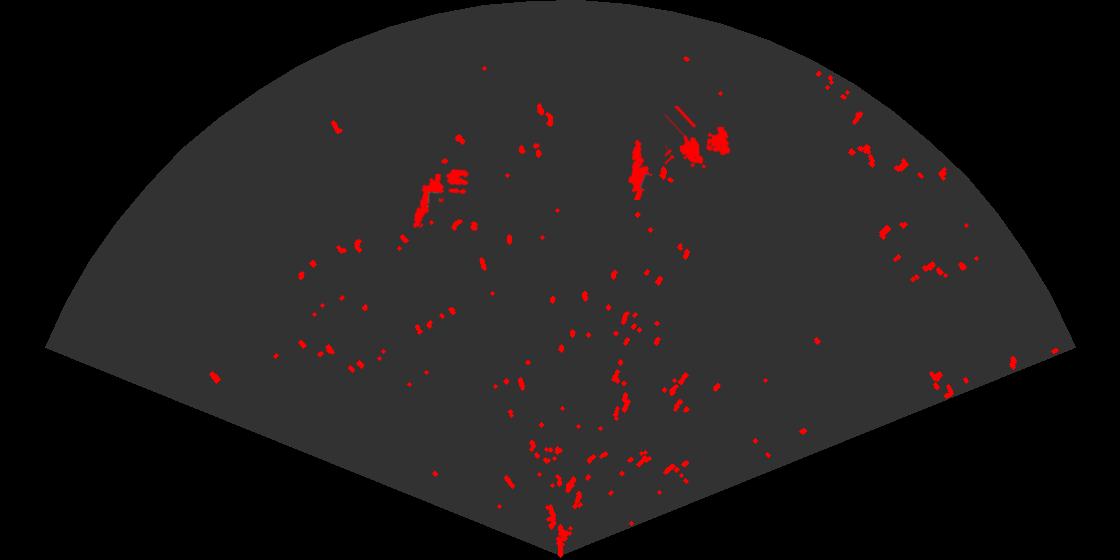ball: (445, 167, 471, 196)
cage: (665, 106, 732, 170)
frogman: (412, 174, 446, 230), (626, 138, 654, 200)
